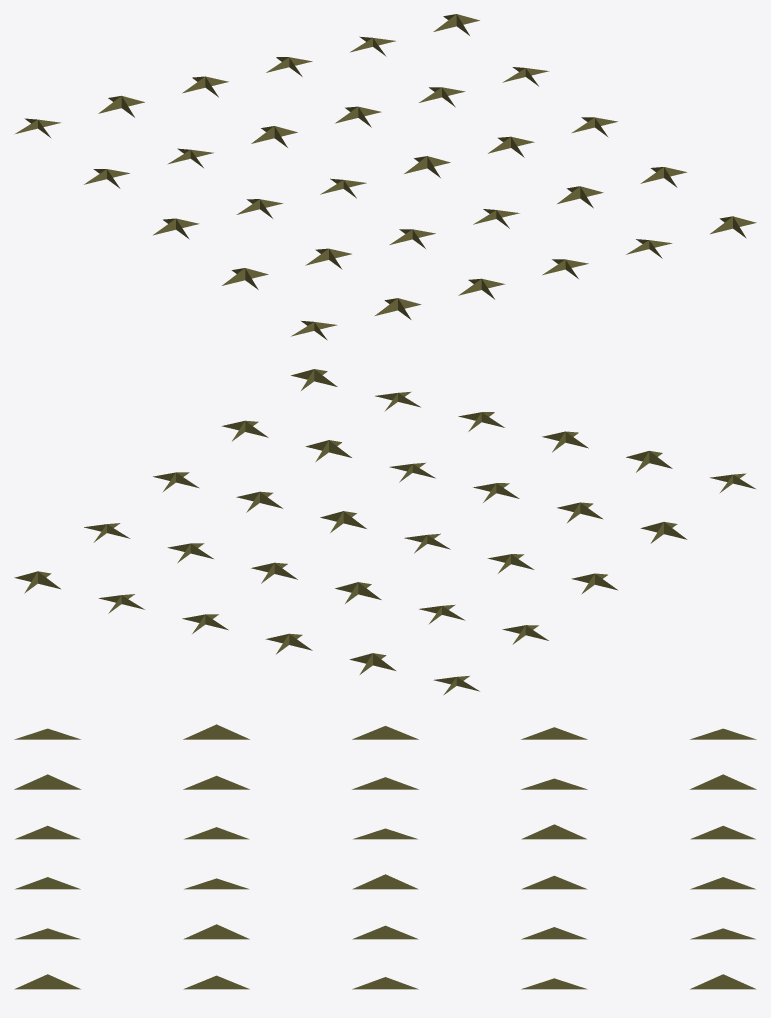
The model's file is field.glb.
The picture shows the model from 3 angles, top to bottom: view 1: azimuth 30°, elevation 25°; view 2: azimuth 150°, elevation 25°; view 3: azimuth 270°, elevation 25°; orthographic projection. The views are drawn at different scales.
Parts seen in each view (by area): view 1: field; view 2: field; view 3: field.
Boxes of the visible parts, left/top/right/bottom form: field: left=14, top=14, right=756, bottom=340; field: left=14, top=369, right=756, bottom=695; field: left=14, top=724, right=756, bottom=989.
Size of the model in its own units: 39 by 0.99 by 44.
